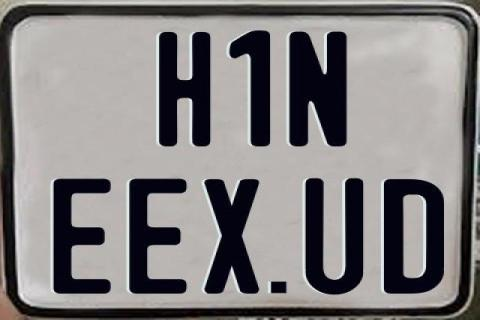0: (228, 28, 272, 146)
D: (381, 177, 442, 297)
E: (128, 177, 192, 297), (50, 176, 112, 291)
H: (158, 31, 213, 145)
N: (287, 31, 348, 149)
U: (305, 176, 366, 293)
X: (204, 178, 260, 294)
